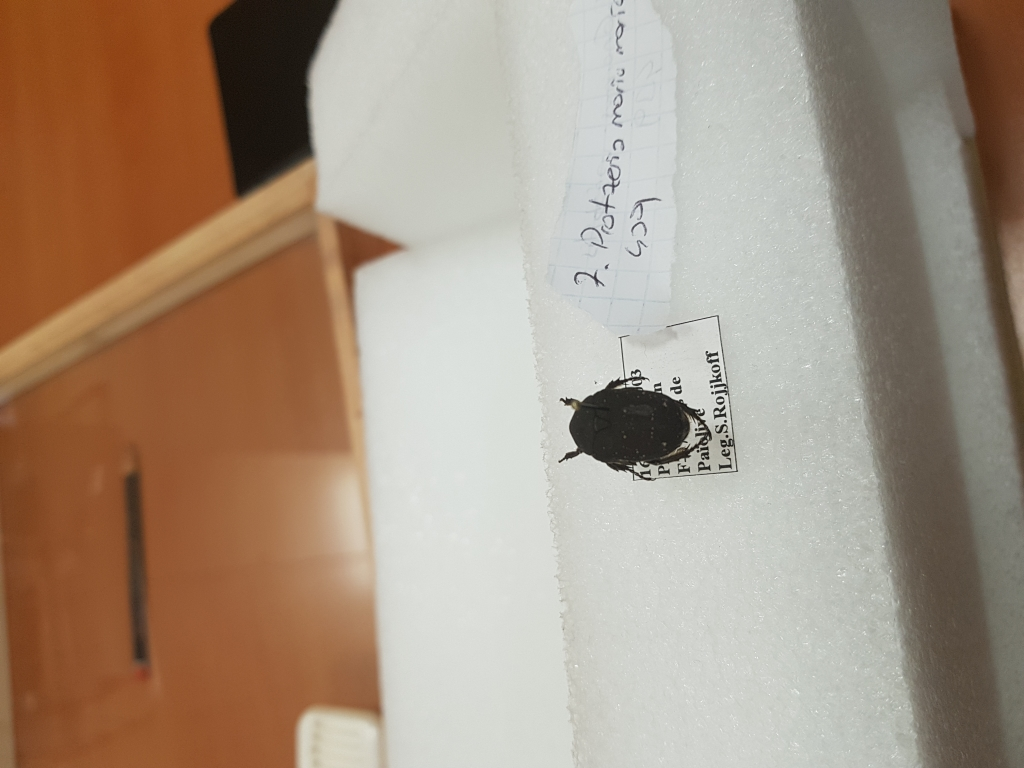Protaetia_morio_morio: (550, 373, 717, 477)
